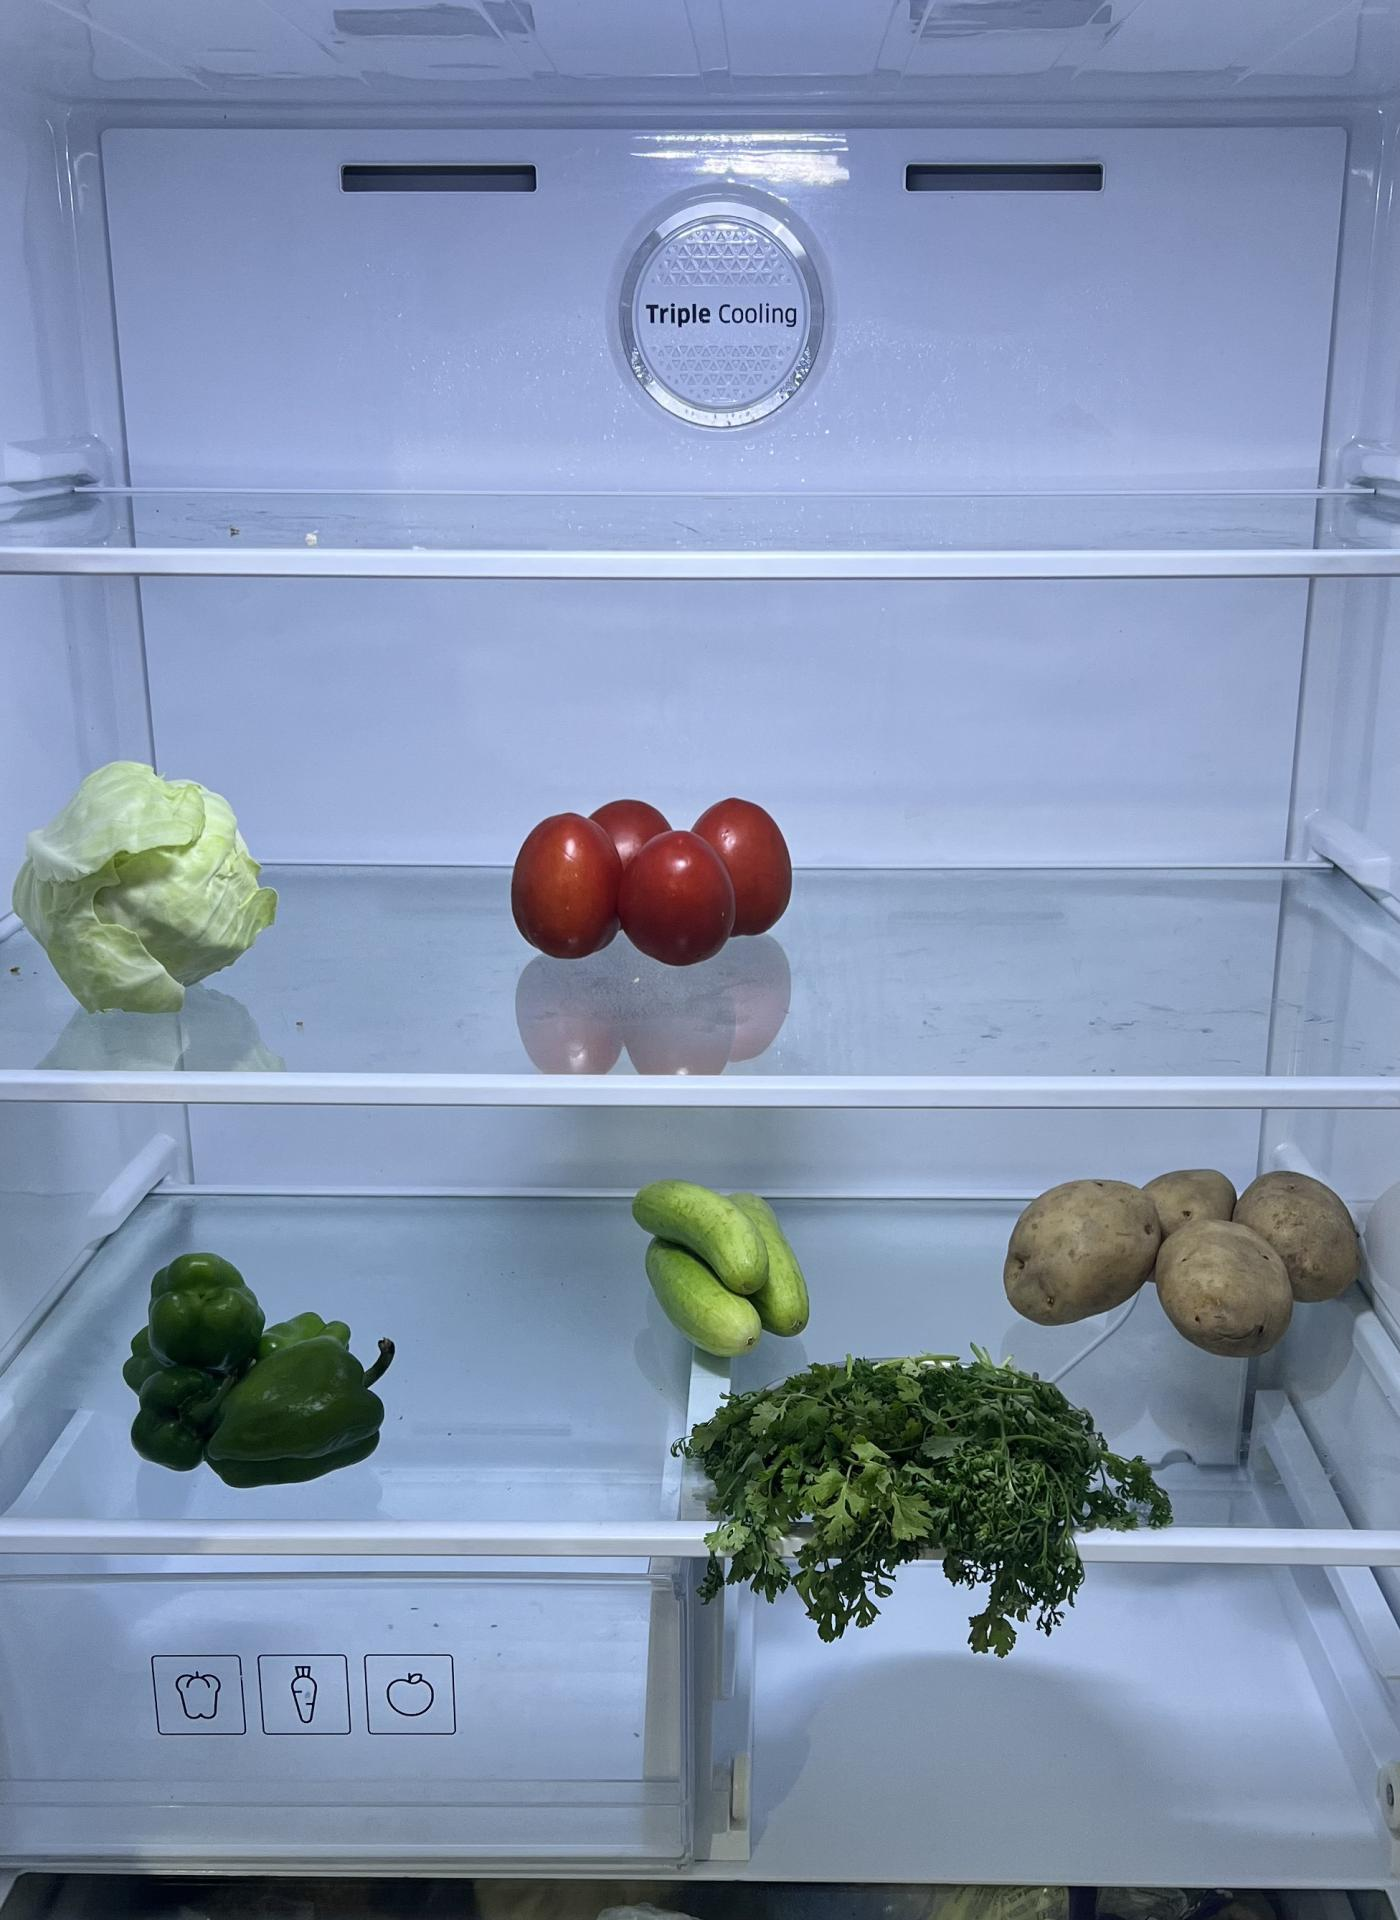cabbage: (16, 760, 280, 1018)
capsicum: (128, 1260, 400, 1494)
coriander: (690, 1358, 1154, 1605)
cucumber: (637, 1175, 810, 1361)
potato: (1003, 1151, 1372, 1348)
tomato: (507, 784, 796, 966)
